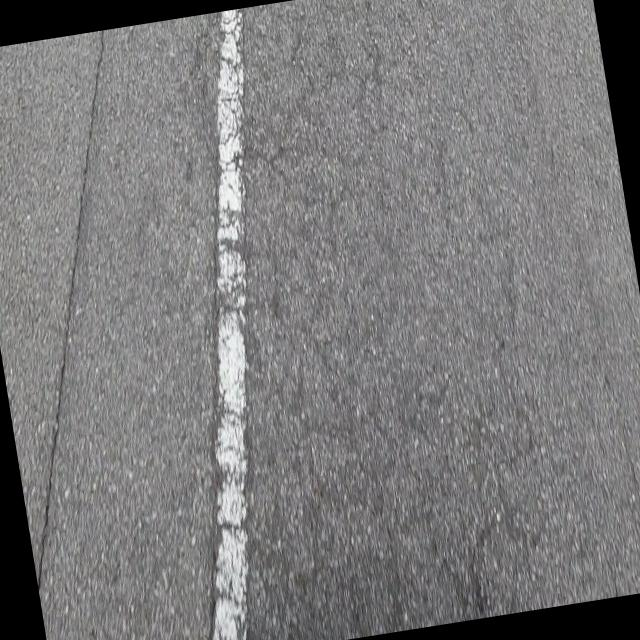Retak-Memanjang: (37, 32, 106, 597)
